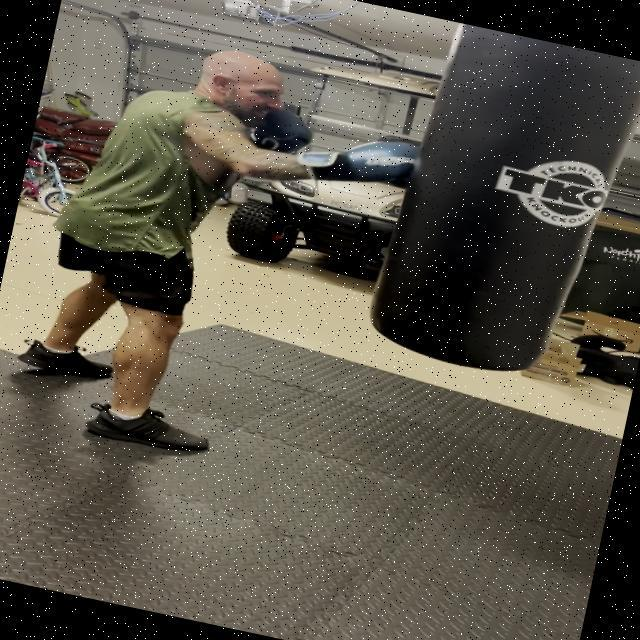punch: (81, 13, 495, 277)
